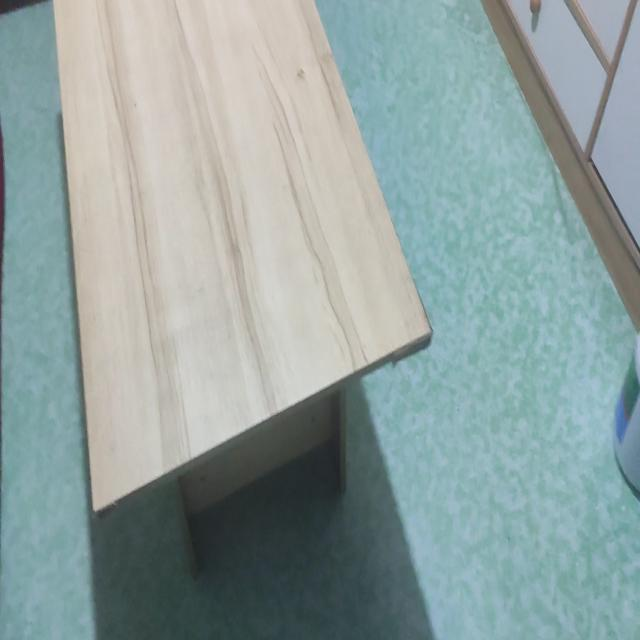table: (43, 0, 432, 532)
